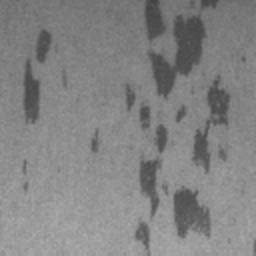Red iron sheet: (124, 0, 232, 255), (23, 28, 69, 124), (20, 159, 31, 192), (92, 128, 100, 155), (225, 236, 233, 246), (251, 241, 256, 256), (238, 55, 247, 63)
